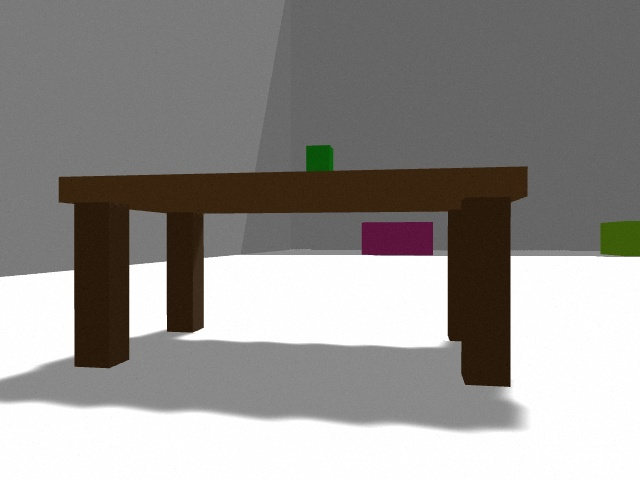green_cube: (306, 145, 333, 171)
green_drop_zone: (600, 221, 640, 256)
red_drop_zone: (362, 222, 433, 255)
